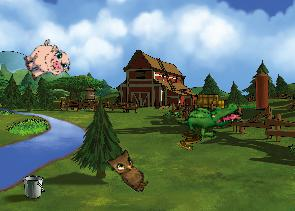crocodile: (176, 87, 245, 150)
owl: (103, 144, 157, 194)
pig: (19, 35, 73, 88)
